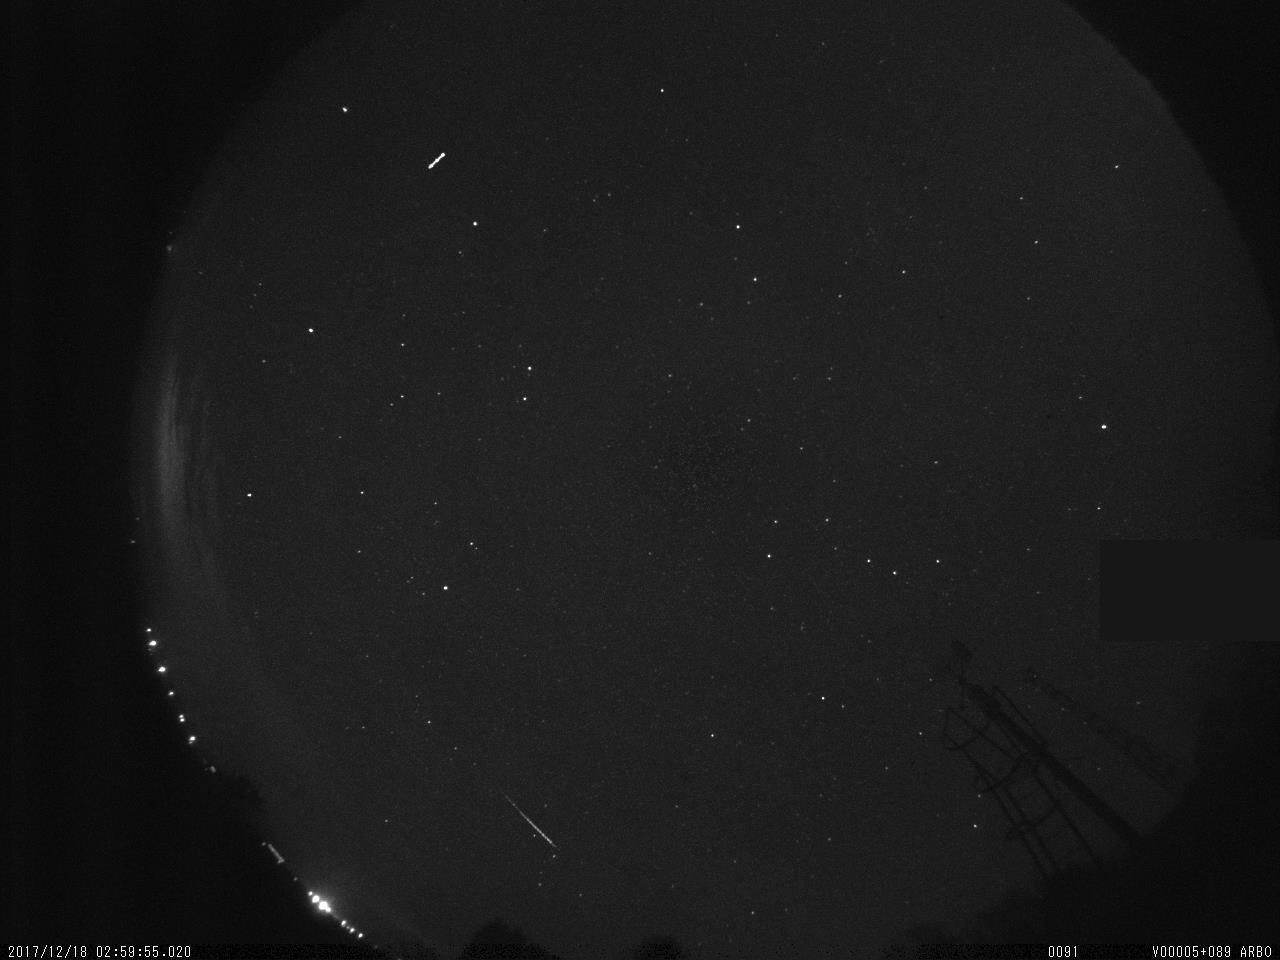Meteor: (501, 791, 559, 852)
